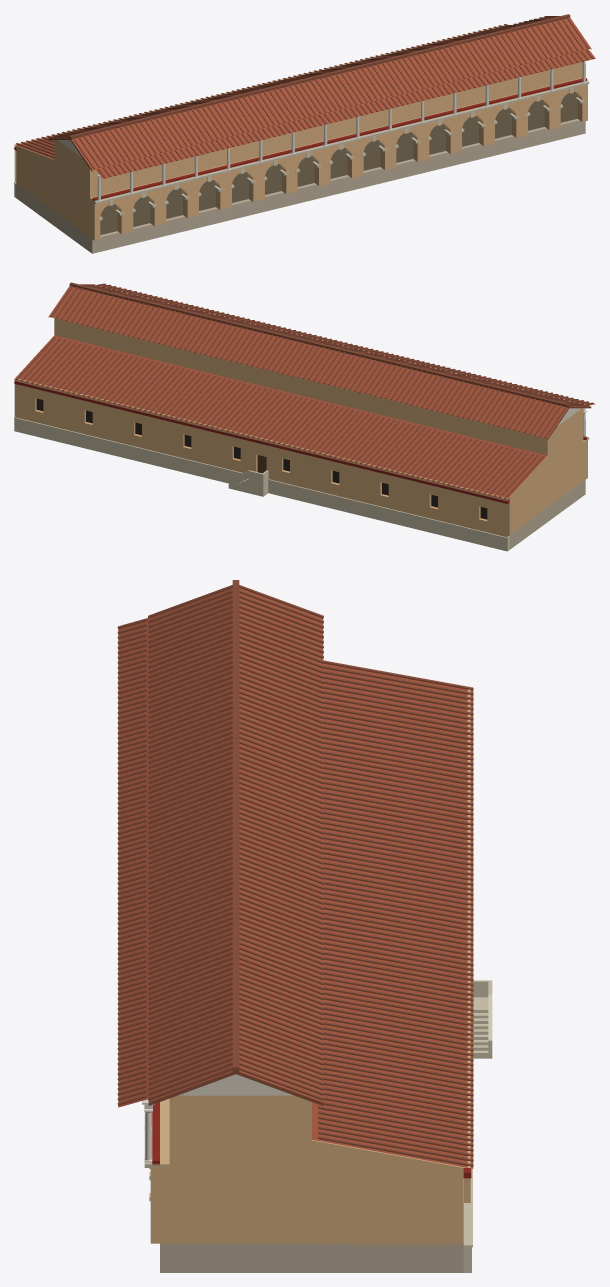
File: rome_pal_block_b_flat.glb
The picture shows the model from 3 angles, top to bottom: view 1: azimuth 30°, elevation 25°; view 2: azimuth 150°, elevation 25°; view 3: azimuth 270°, elevation 25°; orthographic projection. The views are drawn at different scales.
Visible parts, largest first — view 1: rome_pal_block_b_flat; view 2: rome_pal_block_b_flat; view 3: rome_pal_block_b_flat.
Boxes of the visible parts, left/top/right/bottom form: rome_pal_block_b_flat: left=14, top=14, right=595, bottom=253; rome_pal_block_b_flat: left=14, top=282, right=595, bottom=551; rome_pal_block_b_flat: left=117, top=580, right=492, bottom=1272.
Size of the model in its own units: 60.72 by 12.12 by 19.73.
